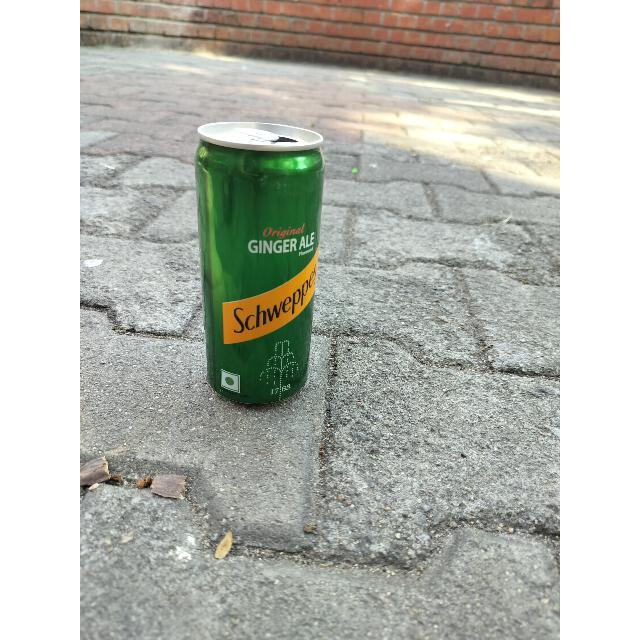Schweppes: (193, 130, 324, 404)
